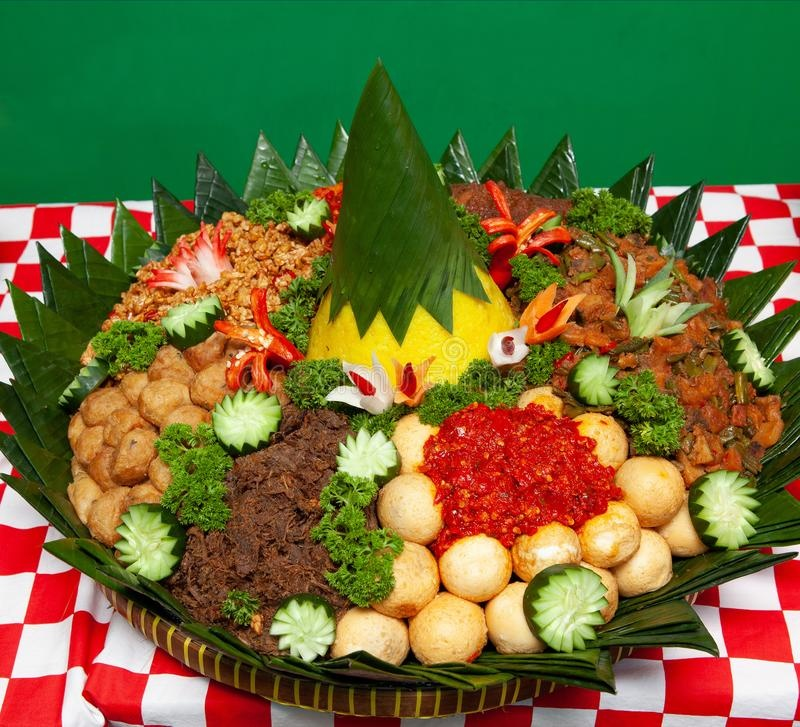tumpeng: (269, 80, 527, 363)
